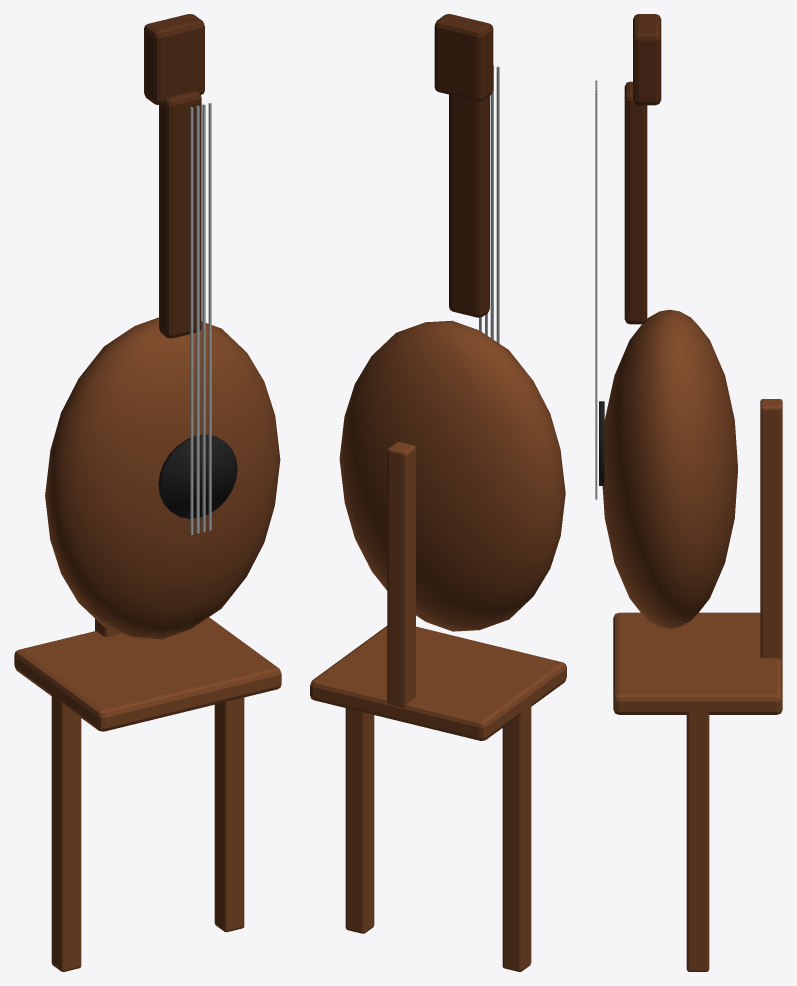
File: mandolino.glb
3 renders of one model, left to right at view 1: azimuth 30°, elevation 25°; view 2: azimuth 150°, elevation 25°; view 3: azimuth 270°, elevation 25°, orthographic. The views are drawn at different scales.
Parts seen in each view (by area): view 1: Icosphere, Cube.006, Cube, Cube.008, Cube.009, Cube.001, Cylinder, Cube.003, Cube.004, Cube.005, Cube.002; view 2: Icosphere, Cube.006, Cube, Cube.008, Cube.007, Cube.009, Cube.001, Cube.002, Cube.003; view 3: Icosphere, Cube.006, Cube.009, Cube.007, Cube, Cube.001, Cube.005, Cylinder.
Part boxes in pixels (bbox=[...]): Icosphere: bbox=[45, 317, 280, 639]; Cube.006: bbox=[14, 617, 281, 731]; Cube: bbox=[159, 91, 201, 338]; Cube.008: bbox=[51, 694, 81, 971]; Cube.009: bbox=[214, 697, 244, 932]; Cube.001: bbox=[144, 14, 204, 104]; Cylinder: bbox=[158, 434, 237, 518]; Cube.003: bbox=[196, 105, 199, 533]; Cube.004: bbox=[202, 104, 205, 532]; Cube.005: bbox=[208, 102, 211, 530]; Cube.002: bbox=[190, 107, 193, 534]; Icosphere: bbox=[339, 320, 565, 631]; Cube.006: bbox=[310, 626, 566, 740]; Cube: bbox=[449, 94, 489, 317]; Cube.008: bbox=[502, 705, 531, 971]; Cube.007: bbox=[387, 442, 415, 707]; Cube.009: bbox=[345, 708, 374, 933]; Cube.001: bbox=[434, 14, 493, 101]; Cube.002: bbox=[496, 66, 499, 343]; Cube.003: bbox=[490, 65, 493, 339]; Icosphere: bbox=[602, 309, 737, 628]; Cube.006: bbox=[613, 612, 782, 714]; Cube.009: bbox=[686, 712, 709, 971]; Cube.007: bbox=[760, 399, 782, 660]; Cube: bbox=[624, 81, 647, 324]; Cube.001: bbox=[633, 14, 661, 105]; Cube.005: bbox=[595, 89, 597, 499]; Cylinder: bbox=[599, 401, 604, 485].
Bounding box in the file's own units: 0.44 × 1.77 × 0.332.
